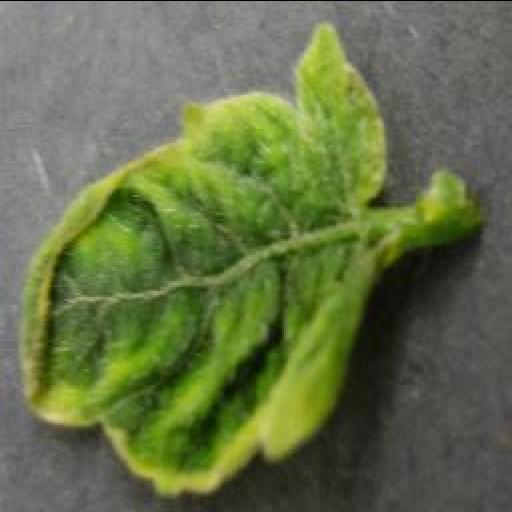disease_tomato: (16, 18, 390, 492)
